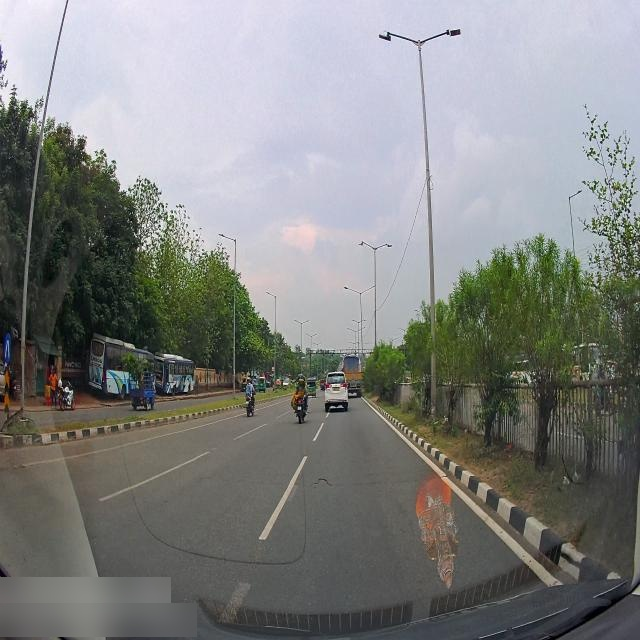pothole: (310, 470, 334, 490)
